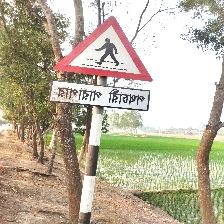Pedestrian-crossing: (49, 14, 154, 113)
